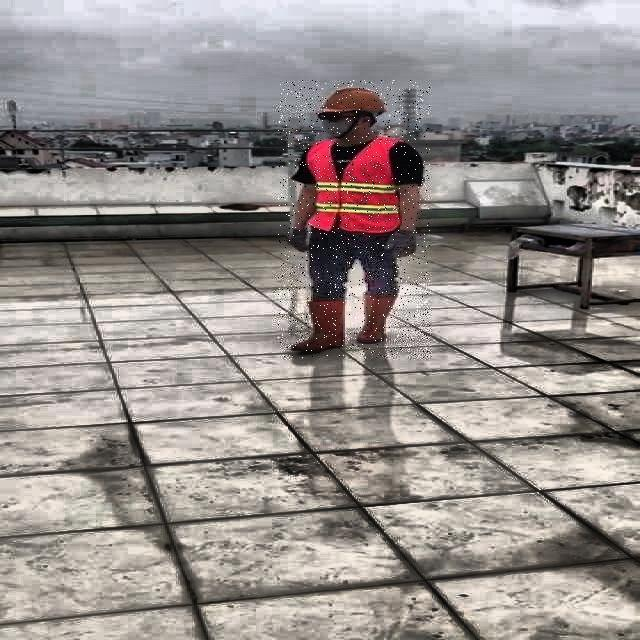safety_helmet: (320, 87, 390, 115)
safety_jacket: (306, 138, 402, 231)
